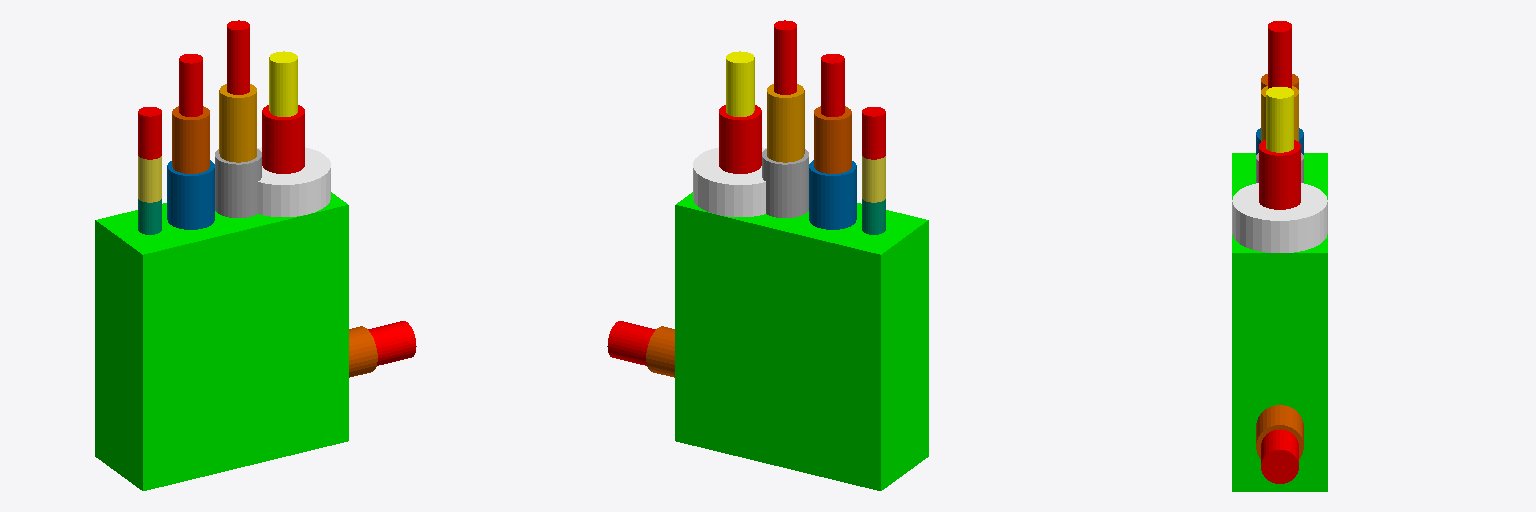
The robot description file, URDF, robot "index":
<?xml version="1.0"?>
<robot name="index">
	
	<material name="red">
		<color rgba="255 0 0 1"/>	
	</material>
	<material name="green">
		<color rgba="0 255 0 1"/>	
	</material>
	<material name="blue">
		<color rgba="192 192 192 1"/>	
	</material>
	<material name="grey">
		<color rgba="255 255 0 1"/>	
	</material>

	<link name="base_link">
		<visual>
			<geometry>
				<box size="0.10 0.04 0.11" />
			</geometry>
			<material name="green"/>
		</visual>
	</link>

	<!-- Index -->
	<link name="index_phalanx_base">
		<visual>
			<geometry>
				<cylinder length="0.04" radius="0.02" />
			</geometry>
			<material name="blue"/>
		</visual>
	</link>	
	<link name="index_phalanx_middle">
		<visual>
			<geometry>
				<cylinder length="0.03" radius="0.009" />
			</geometry>
			<material name="red"/>
		</visual>
	</link>
	<link name="index_phalanx_end">
		<visual>
			<geometry>
				<cylinder length="0.03" radius="0.006" />
			</geometry>
			<material name="grey"/>
		</visual>
	</link>
	
	<joint name="base_link_to_index_base" type="revolute">
		<axis xyz="1 0 0"/>
		<parent link="base_link"/>
		<child link="index_phalanx_base"/>
		<limit effort="1000" upper="1.57" lower="-1.65" velocity="0.5"/>
		<origin xyz="0.03 0.0 0.05"/>
	</joint>
	<joint name="index_base_to_middle" type="revolute">
		<axis xyz="1 0 0"/>
		<parent link="index_phalanx_base"/>
		<child link="index_phalanx_middle"/>
		<limit effort="1000" upper="0" lower="-1.65" velocity="0.5"/>
		<origin xyz="0.0 0.0 0.03"/>
	</joint>
	<joint name="index_middle_to_end" type="revolute">
		<axis xyz="1 0 0"/>
		<parent link="index_phalanx_middle"/>
		<child link="index_phalanx_end"/>
		<limit effort="1000" upper="0" lower="-1.57" velocity="0.5"/>
		<origin xyz="0.0 0.0 0.025"/>
	</joint>

<!-- annulaire -->
<link name="ring_phalange_base">
		<visual>
			<geometry>
				<cylinder length="0.03" radius="0.01"/>
			</geometry>
			<material name="coral"/>
			<origin xyz="0 0 0.015"/>
		</visual>
	</link>

	<link name="ring_phalange_middle">
		<visual>
			<geometry>
				<cylinder length="0.025" radius="0.008"/>
			</geometry>
			<material name="orange"/>
			<origin xyz="0 0 0.0125"/>
		</visual>
	</link>

	<link name="ring_phalange_end">
		<visual>
			<geometry>
				<cylinder length="0.025" radius="0.005"/>
			</geometry>
			<material name="red"/>
			<origin xyz="0 0 0.0125"/>
		</visual>
	</link>
	

	<joint name="base_link_to_ring_base" type="revolute">
		<axis xyz="1 0 0"/>
		<parent link="base_link"/>
		<child link="ring_phalange_base"/>
		<limit effort="1000" upper="1.57" lower="-1.65" velocity="0.5"/>
		<origin xyz="-0.015 0.0 0.05"/>
	</joint>
	<joint name="ring_base_to_middle" type="revolute">
		<axis xyz="1 0 0"/>
		<parent link="ring_phalange_base"/>
		<child link="ring_phalange_middle"/>
		<limit effort="1000" upper="0" lower="-1.65" velocity="0.5"/>
		<origin xyz="0.0 0.0 0.03"/>
	</joint>
	<joint name="ring_middle_to_end" type="revolute">
		<axis xyz="1 0 0"/>
		<parent link="ring_phalange_middle"/>
		<child link="ring_phalange_end"/>
		<limit effort="1000" upper="0" lower="-1.57" velocity="0.5"/>
		<origin xyz="0.0 0.0 0.025"/>
	</joint>


	<!-- majeur -->
	<link name="middle_phalange_base">
		<visual>
			<geometry>
				<cylinder length="0.03" radius="0.01"/>
			</geometry>
			<material name="coral"/>
			<origin xyz="0 0 0.015"/>
		</visual>
	</link>

	<link name="middle_phalange_middle">
		<visual>
			<geometry>
				<cylinder length="0.03" radius="0.008"/>
			</geometry>
			<material name="orange"/>
			<origin xyz="0 0 0.015"/>
		</visual>
	</link>

	<link name="middle_phalange_end">
		<visual>
			<geometry>
				<cylinder length="0.03" radius="0.005"/>
			</geometry>
			<material name="red"/>
			<origin xyz="0 0 0.015"/>
		</visual>
	</link>
	

	<joint name="base_link_to_middle_base" type="revolute">
		<axis xyz="1 0 0"/>
		<parent link="base_link"/>
		<child link="middle_phalange_base"/>
		<limit effort="1000" upper="1.57" lower="-1.65" velocity="0.5"/>
		<origin xyz="0.008 0.0 0.05"/>
	</joint>
	<joint name="middle_base_to_middle" type="revolute">
		<axis xyz="1 0 0"/>
		<parent link="middle_phalange_base"/>
		<child link="middle_phalange_middle"/>
		<limit effort="1000" upper="0" lower="-1.65" velocity="0.5"/>
		<origin xyz="0.0 0.0 0.03"/>
	</joint>
	<joint name="middle_middle_to_end" type="revolute">
		<axis xyz="1 0 0"/>
		<parent link="middle_phalange_middle"/>
		<child link="middle_phalange_end"/>
		<limit effort="1000" upper="0" lower="-1.57" velocity="0.5"/>
		<origin xyz="0.0 0.0 0.03"/>
	</joint>
	<!-- Pinky -->
	<link name="pinky_phalange_base">
		<visual>
			<geometry>
				<cylinder length="0.02" radius="0.005"/>
			</geometry>
			<material name="coral"/>
			<origin xyz="0 0 0.01"/>
		</visual>
	</link>

	<link name="pinky_phalange_middle">
		<visual>
			<geometry>
				<cylinder length="0.02" radius="0.005"/>
			</geometry>
			<material name="orange"/>
			<origin xyz="0 0 0.010"/>
		</visual>
	</link>

	<link name="pinky_phalange_end">
		<visual>
			<geometry>
				<cylinder length="0.02" radius="0.005"/>
			</geometry>
			<material name="red"/>
			<origin xyz="0 0 0.010"/>
		</visual>
	</link>
	

	<joint name="base_link_to_pinky_base" type="revolute">
		<axis xyz="1 0 0"/>
		<parent link="base_link"/>
		<child link="pinky_phalange_base"/>
		<limit effort="1000" upper="1.57" lower="-1.65" velocity="0.5"/>
		<origin xyz="-0.035 0.0 0.05"/>
	</joint>
	<joint name="pinky_base_to_middle" type="revolute">
		<axis xyz="1 0 0"/>
		<parent link="pinky_phalange_base"/>
		<child link="pinky_phalange_middle"/>
		<limit effort="1000" upper="0" lower="-1.65" velocity="0.5"/>
		<origin xyz="0.0 0.0 0.02"/>
	</joint>
	<joint name="pinky_middle_to_end" type="revolute">
		<axis xyz="1 0 0"/>
		<parent link="pinky_phalange_middle"/>
		<child link="pinky_phalange_end"/>
		<limit effort="1000" upper="0" lower="-1.57" velocity="0.5"/>
		<origin xyz="0.0 0.0 0.02"/>
	</joint>

<!--Thumb-->
	<link name="thumb_phalange_base">
			<visual>
				<geometry>
					<cylinder length="0.03" radius="0.01"/>
				</geometry>
				<material name="coral"/>
				<origin xyz="0 0 0.0150"/>
			</visual>
	</link>
	<link name="thumb_phalange_end">
			<visual>
				<geometry>
					<cylinder length="0.02" radius="0.008"/>
				</geometry>
				<material name="red"/>
				<origin xyz="0 0 0.01"/>
			</visual>
	</link>

	<joint name="thumb_base_palm" type="revolute">
		<axis xyz="1 0 0"/>
		<parent link="base_link"/>
		<child link="thumb_phalange_base"/>
		<origin xyz="0.04 0 -0.025" rpy="0 1.57 0"/>
		<limit effort="1000" upper="0" lower="-1.57" velocity="0.5"/>
	</joint>
	<joint name="thumb_end_to_thumb_base" type="revolute">
		<axis xyz="1 0 0"/>
		<parent link="thumb_phalange_base"/>
		<child link="thumb_phalange_end"/>
		<origin xyz="0 0 0.03" rpy="0 0 0"/>
		<limit effort="1000" upper="0" lower="-1.0" velocity="0.5"/>
	</joint>

</robot>
	

--- What the picture shows (computed from the rendered views, not written in the file) ---
Views: 3 orthographic renders of the robot side by side, from view 1: azimuth 30°, elevation 25°; view 2: azimuth 150°, elevation 25°; view 3: azimuth 270°, elevation 25°.
Robot: index — 15 links, 14 joints (14 revolute); root link base_link; default pose: all joints at 0.
Links seen in each view (by area): view 1: base_link, index_phalanx_base, ring_phalange_base, middle_phalange_middle, middle_phalange_base, index_phalanx_middle, ring_phalange_middle, index_phalanx_end, middle_phalange_end, thumb_phalange_end, ring_phalange_end, thumb_phalange_base (+3 smaller); view 2: base_link, index_phalanx_base, ring_phalange_base, middle_phalange_middle, middle_phalange_base, index_phalanx_middle, ring_phalange_middle, index_phalanx_end, middle_phalange_end, thumb_phalange_end, ring_phalange_end, thumb_phalange_base (+3 smaller); view 3: base_link, index_phalanx_base, index_phalanx_middle, thumb_phalange_end, index_phalanx_end, middle_phalange_end, thumb_phalange_base, middle_phalange_middle.
Boxes of the visible links, left/top/right/bottom form: base_link: left=95, top=192, right=348, bottom=490; index_phalanx_base: left=257, top=147, right=330, bottom=216; ring_phalange_base: left=167, top=160, right=214, bottom=229; middle_phalange_middle: left=219, top=84, right=256, bottom=162; middle_phalange_base: left=215, top=149, right=261, bottom=217; index_phalanx_middle: left=262, top=105, right=304, bottom=173; ring_phalange_middle: left=172, top=106, right=209, bottom=173; index_phalanx_end: left=269, top=51, right=297, bottom=116; middle_phalange_end: left=227, top=20, right=249, bottom=94; thumb_phalange_end: left=368, top=321, right=416, bottom=365; ring_phalange_end: left=179, top=54, right=202, bottom=116; thumb_phalange_base: left=349, top=326, right=377, bottom=377; base_link: left=675, top=192, right=928, bottom=490; index_phalanx_base: left=693, top=147, right=766, bottom=216; ring_phalange_base: left=809, top=160, right=856, bottom=229; middle_phalange_middle: left=767, top=84, right=804, bottom=162; middle_phalange_base: left=762, top=149, right=808, bottom=217; index_phalanx_middle: left=719, top=105, right=761, bottom=173; ring_phalange_middle: left=814, top=106, right=851, bottom=173; index_phalanx_end: left=726, top=51, right=754, bottom=116; middle_phalange_end: left=774, top=20, right=796, bottom=94; thumb_phalange_end: left=607, top=321, right=655, bottom=365; ring_phalange_end: left=821, top=54, right=844, bottom=116; thumb_phalange_base: left=646, top=326, right=674, bottom=377; base_link: left=1232, top=153, right=1327, bottom=491; index_phalanx_base: left=1232, top=183, right=1327, bottom=252; index_phalanx_middle: left=1259, top=140, right=1300, bottom=209; thumb_phalange_end: left=1261, top=429, right=1298, bottom=483; index_phalanx_end: left=1266, top=87, right=1293, bottom=152; middle_phalange_end: left=1268, top=22, right=1291, bottom=88; thumb_phalange_base: left=1256, top=405, right=1303, bottom=458; middle_phalange_middle: left=1261, top=86, right=1298, bottom=141.
Bounding box of the posed robot: 0.14 × 0.04 × 0.195 m (x, y, z).
Geometry: primitives only (box / cylinder / sphere), no mesh files.